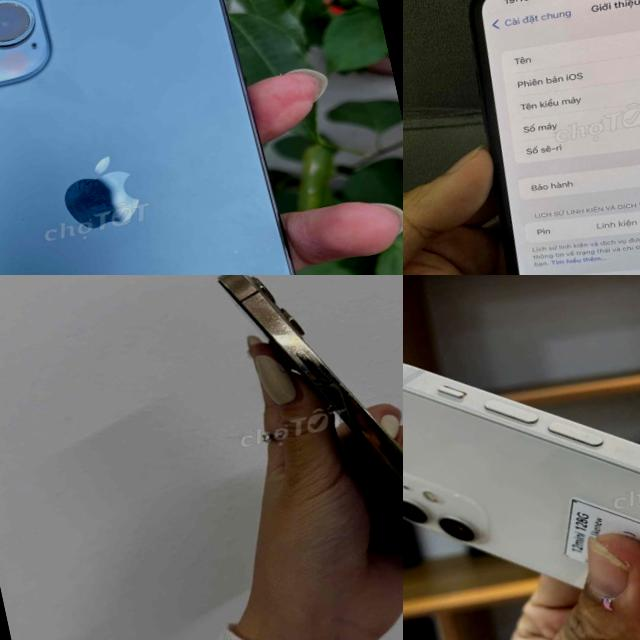scratch: (293, 346, 377, 428), (242, 282, 312, 370), (453, 0, 514, 15)
